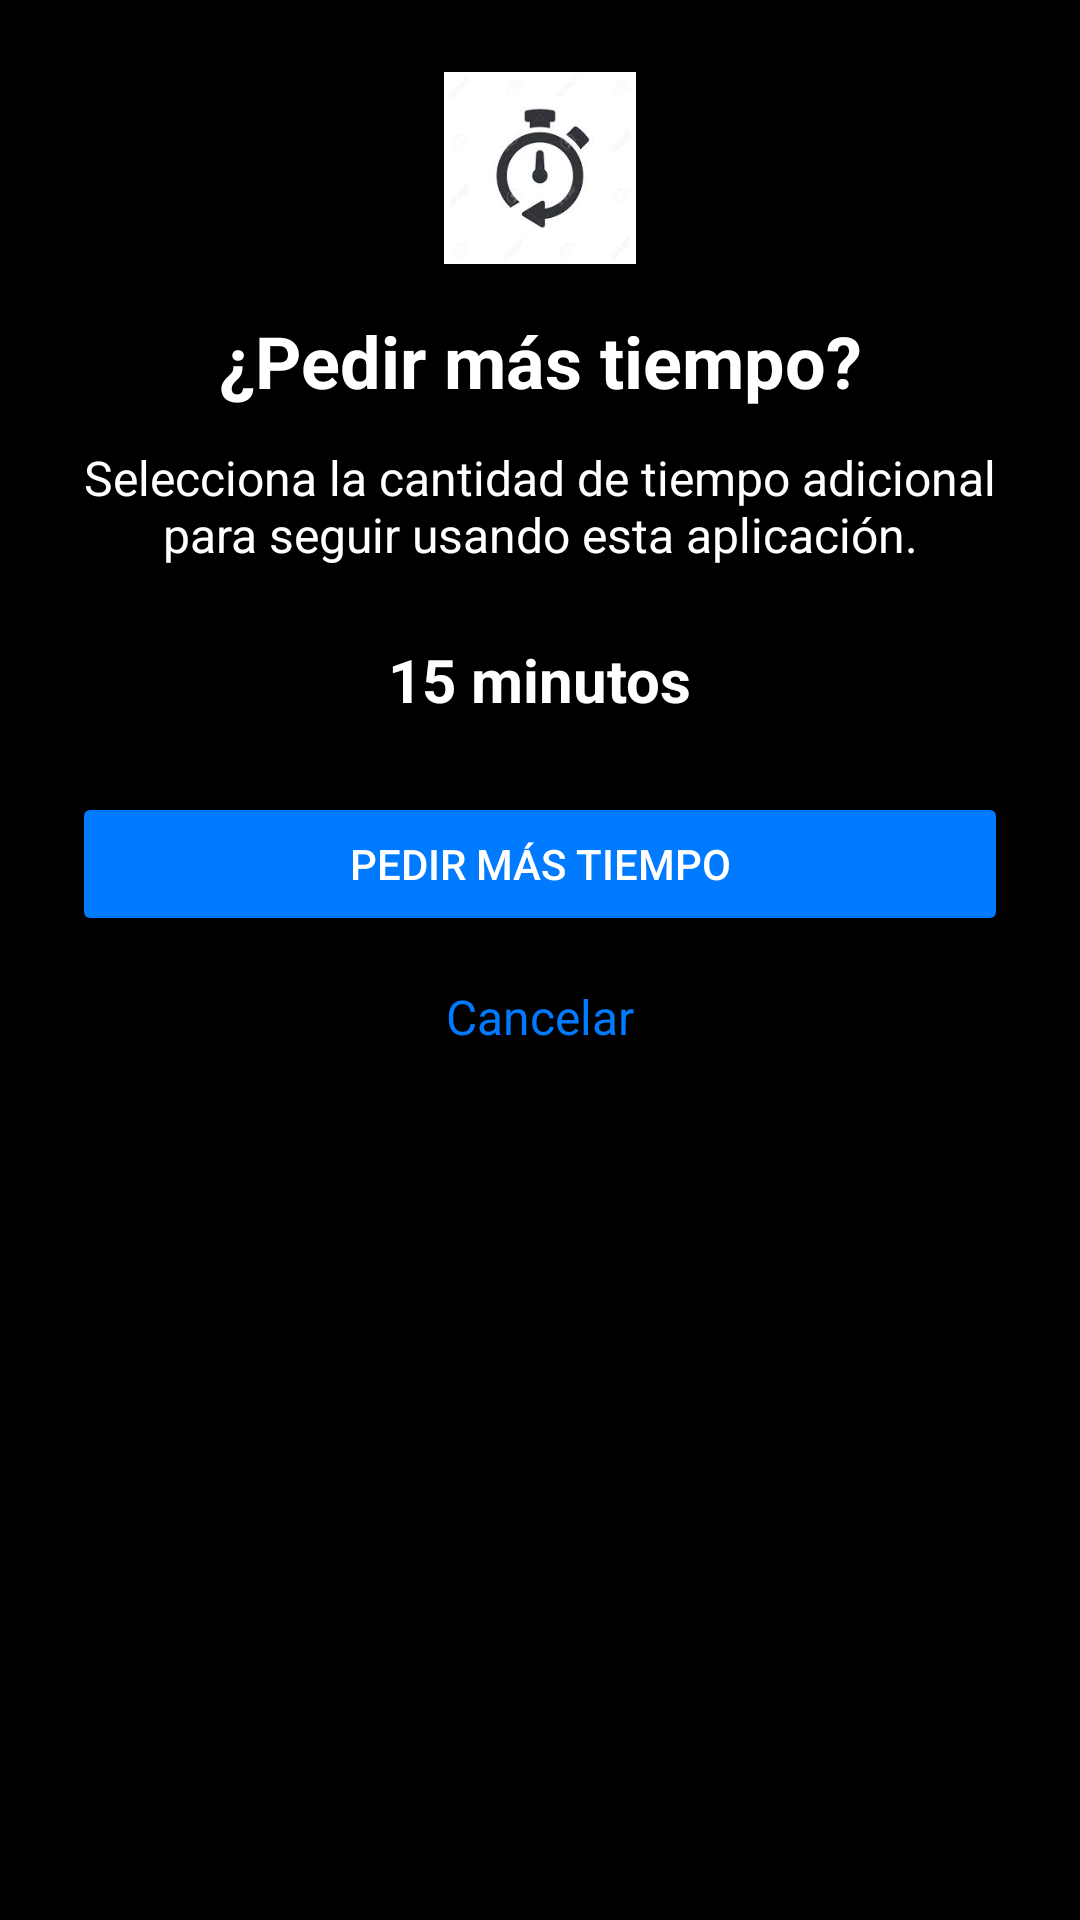

Icons on this 1080px×1920px Android screen, each with its box as (x1, y1, x2, y2):
Icono reloj: (444, 72, 636, 264)
